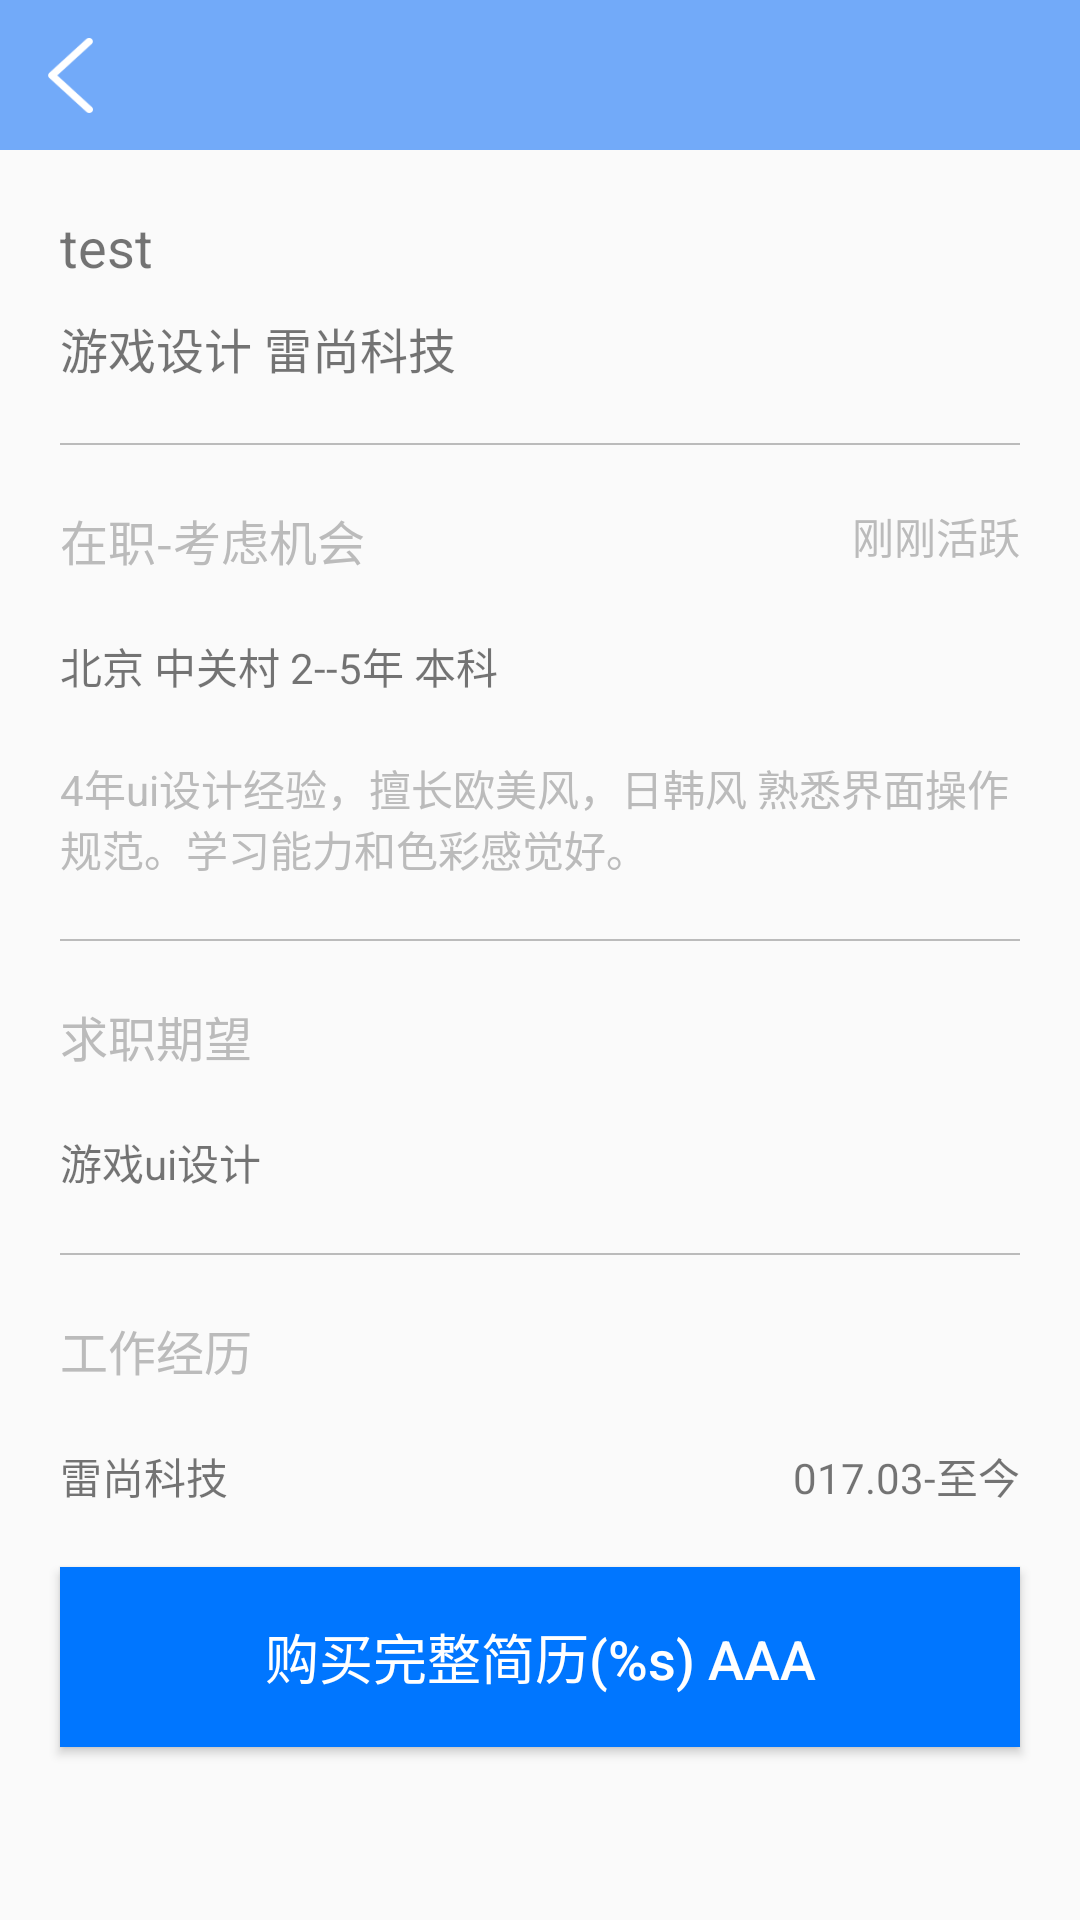

Where icons sit on this 1080×1920 app screen, as (x1, y1, x2, y2):
back: (48, 38, 93, 113)
